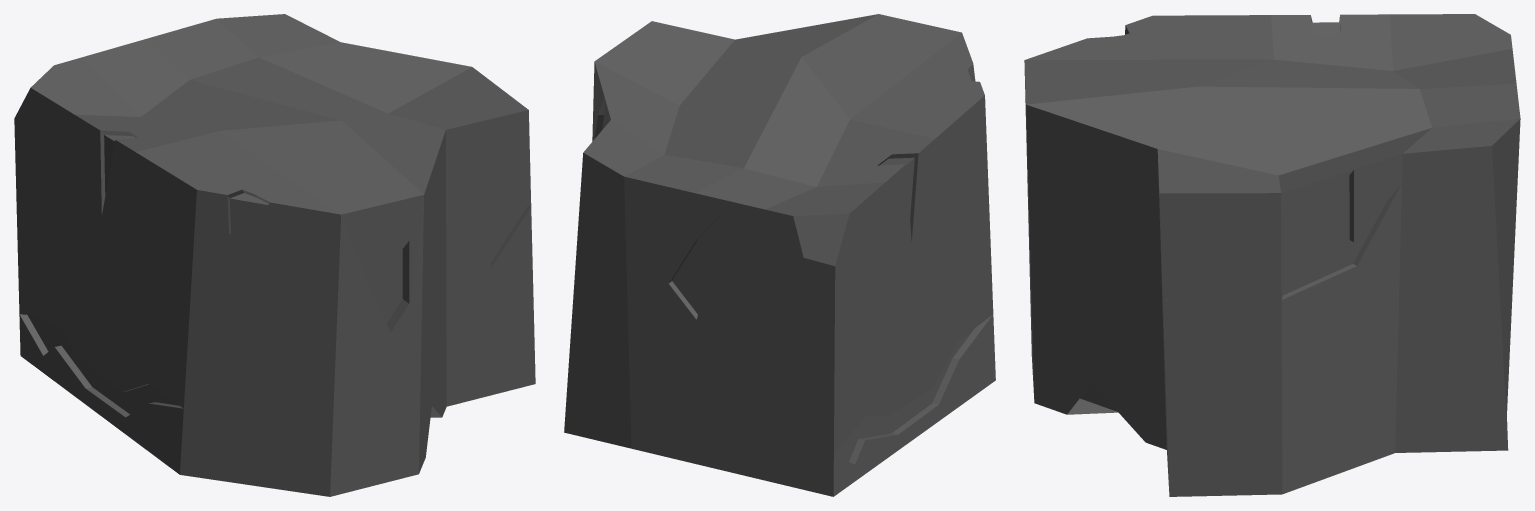
Rendered from rock_6b.fbx.
3 renders of one model, left to right at view 1: azimuth 30°, elevation 25°; view 2: azimuth 150°, elevation 25°; view 3: azimuth 270°, elevation 25°, orthographic. The views are drawn at different scales.
Parts seen in each view (by area): view 1: rock_6b; view 2: rock_6b; view 3: rock_6b.
Part boxes in pixels (x1,y1,x2,y2): rock_6b: [14, 14, 535, 496]; rock_6b: [564, 14, 995, 496]; rock_6b: [1024, 14, 1520, 496].
Size of the model in its own units: 589 by 464 by 659.
